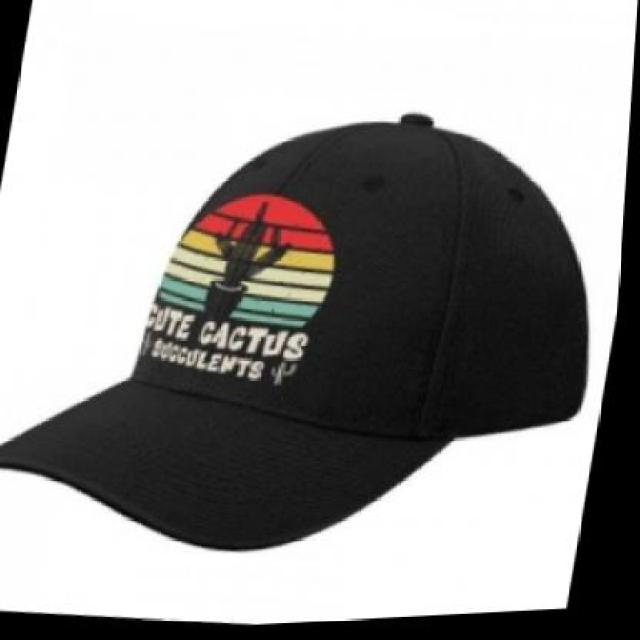hat: (0, 61, 635, 596)
